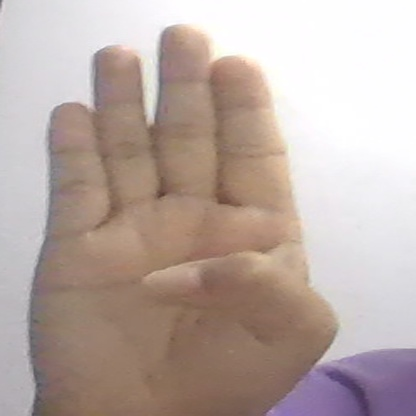B: (29, 24, 339, 404)
